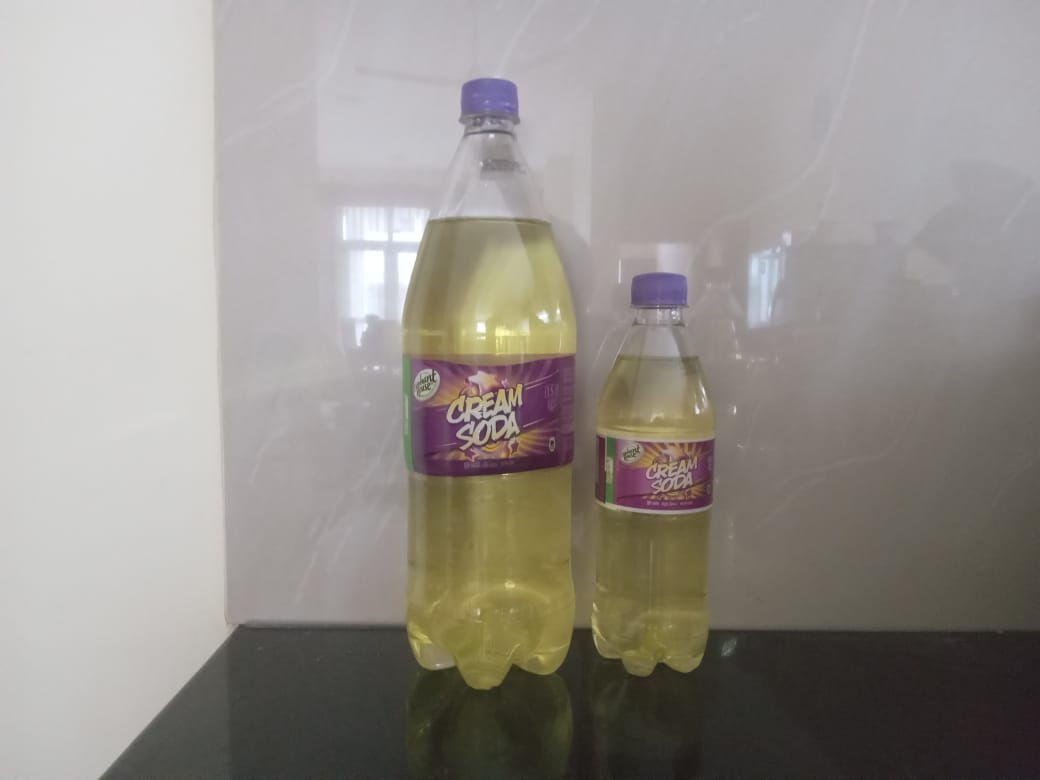L: (389, 77, 591, 701)
S: (581, 261, 721, 701)
